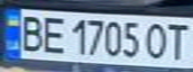0: (103, 18, 124, 57)
1: (66, 16, 87, 55)
5: (121, 18, 145, 58)
7: (84, 17, 106, 56)
B: (15, 11, 48, 53)
E: (36, 12, 69, 55)
O: (142, 20, 172, 61)
T: (163, 20, 193, 61)
